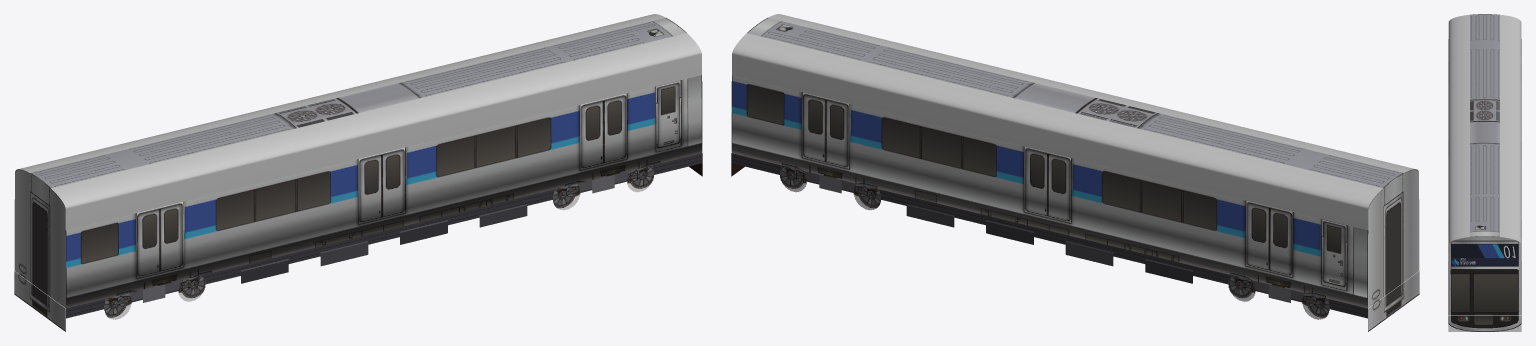
The model's file is car4.glb.
3 views of the same model, side by side, from view 1: azimuth 30°, elevation 25°; view 2: azimuth 150°, elevation 25°; view 3: azimuth 270°, elevation 25° (orthographic). The views are drawn at different scales.
Visible parts, largest first — view 1: aonami-1000-car4; view 2: aonami-1000-car4; view 3: aonami-1000-car4.
Boxes of the visible parts, x1=… form: aonami-1000-car4: x1=14, y1=14, x2=702, y2=331; aonami-1000-car4: x1=731, y1=14, x2=1419, y2=331; aonami-1000-car4: x1=1448, y1=14, x2=1521, y2=331.
Size of the model in its own units: 20.03 by 4.01 by 2.8.
Materials: 6 (5 with a texture image).
